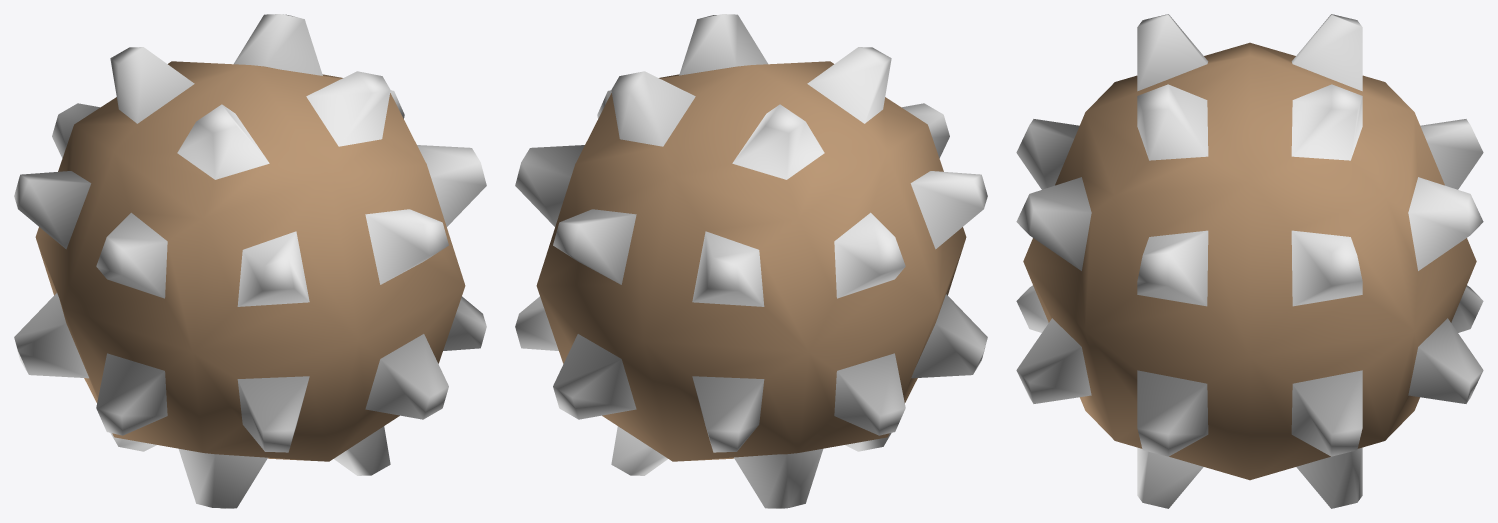
File: meteor.fbx
3 views of the same model, side by side, from view 1: azimuth 30°, elevation 25°; view 2: azimuth 150°, elevation 25°; view 3: azimuth 270°, elevation 25° (orthographic). The views are drawn at different scales.
Parts seen in each view (by area): view 1: Cube; view 2: Cube; view 3: Cube.
Boxes of the visible parts, x1,y1,x2,y2 form: Cube: (14, 14, 486, 508); Cube: (515, 14, 987, 508); Cube: (1016, 14, 1483, 508).
Bounding box in the file's own units: 216 × 216 × 216.
